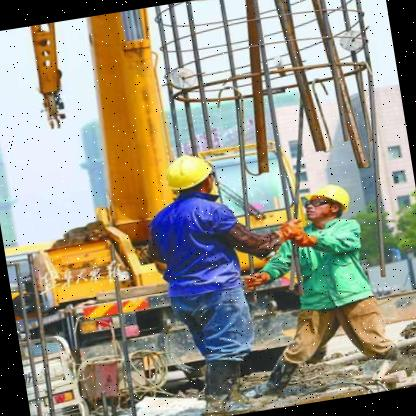capacete: (158, 145, 224, 207), (296, 178, 356, 228)
